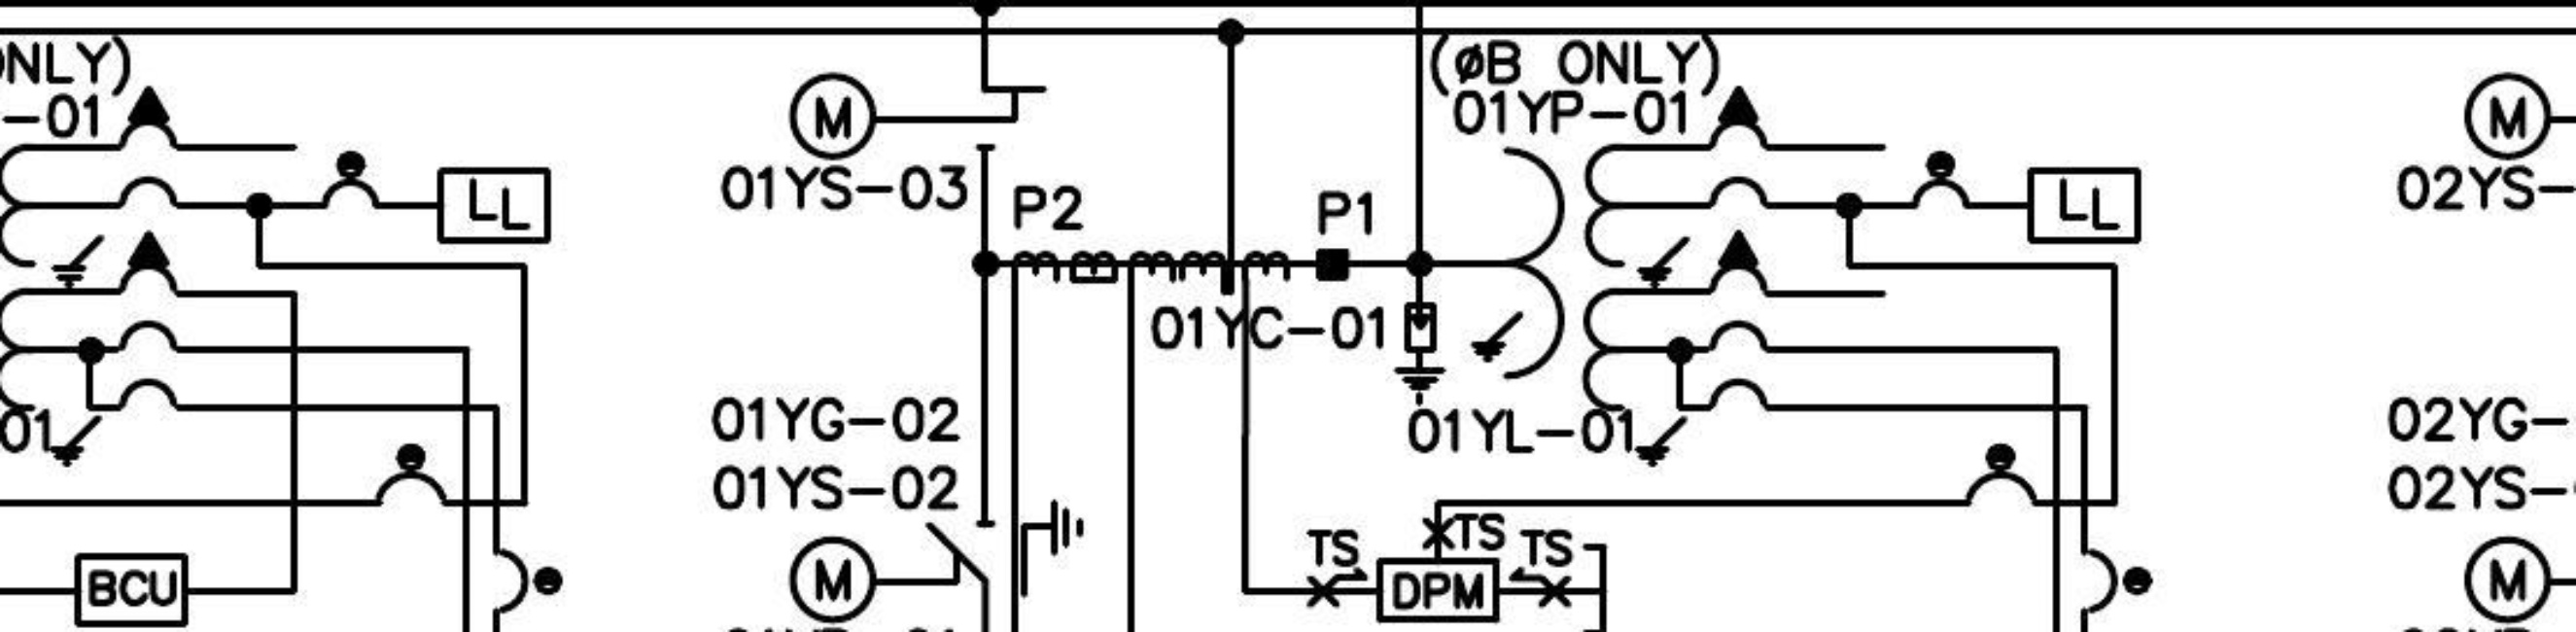115_1way_ds_w_motor: (785, 71, 1050, 163)
115_3ways_ds_w_motor: (787, 497, 1086, 625)
115_la: (1392, 302, 1447, 409)
115_vt_1p: (1469, 84, 1771, 468)
BCU: (72, 552, 191, 629)
DPM: (1375, 556, 1500, 624)
LL: (2026, 166, 2144, 246), (435, 166, 552, 245)
